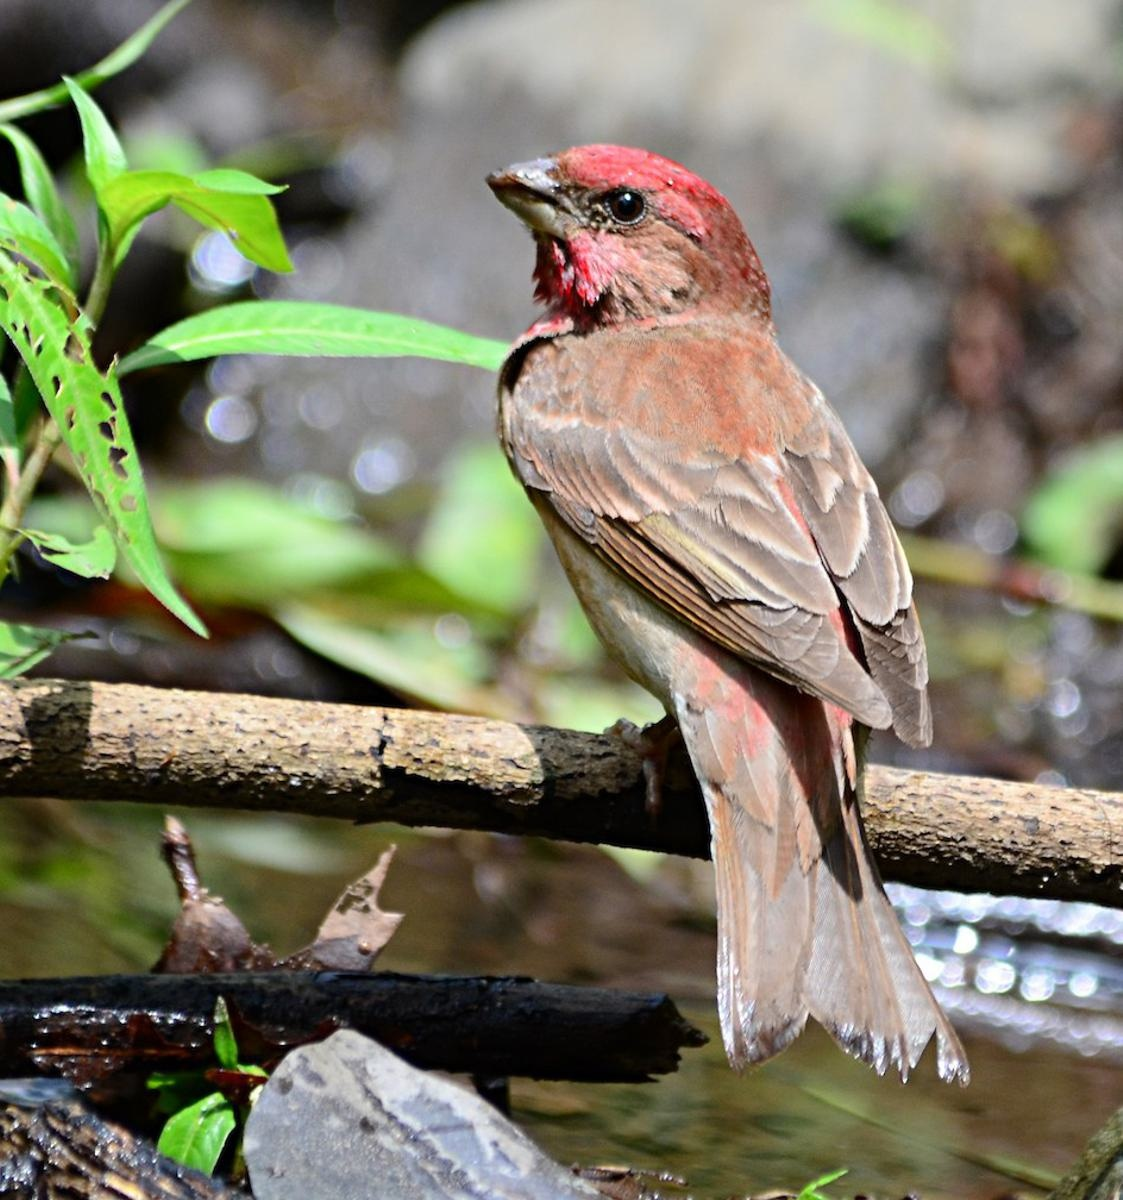rosefinch: (456, 104, 984, 1047)
